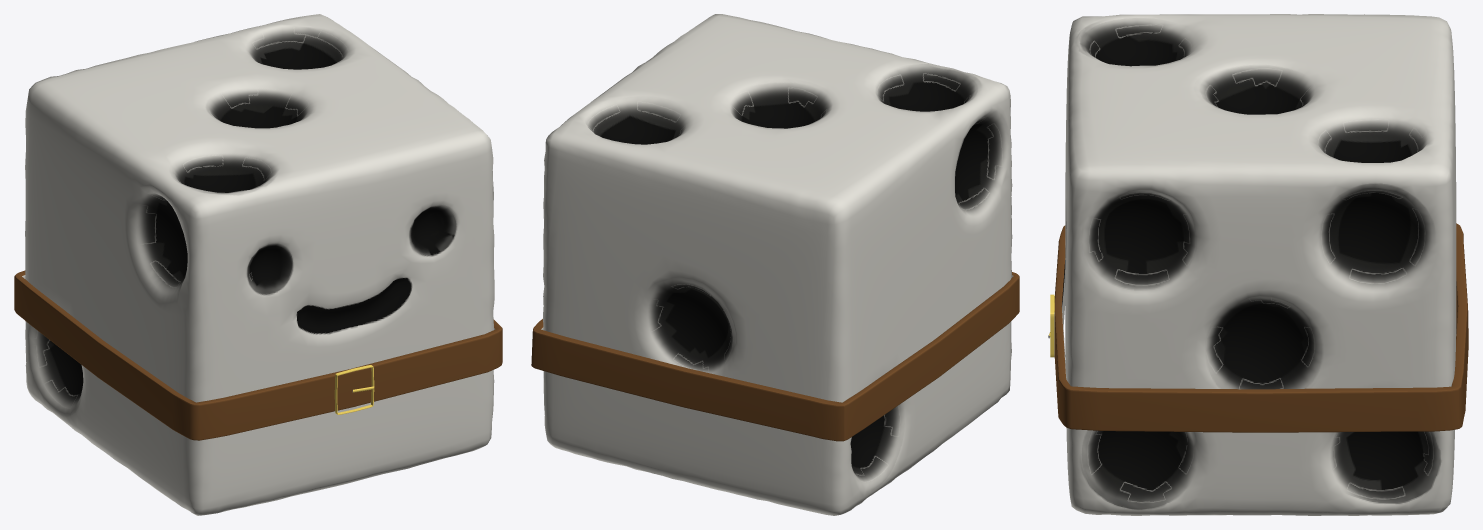
The model's file is diceguy.obj.
3 renders of one model, left to right at view 1: azimuth 30°, elevation 25°; view 2: azimuth 150°, elevation 25°; view 3: azimuth 270°, elevation 25°, orthographic. The views are drawn at different scales.
Size of the model in its own units: 4.29 by 4.07 by 4.38.
